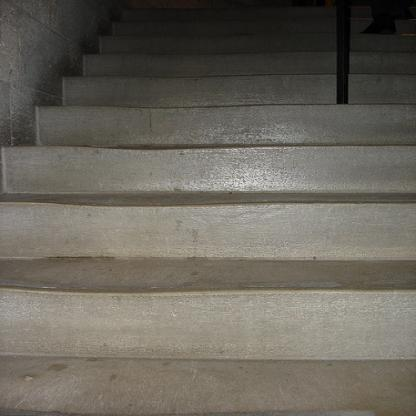stairs: (34, 107, 416, 416)
